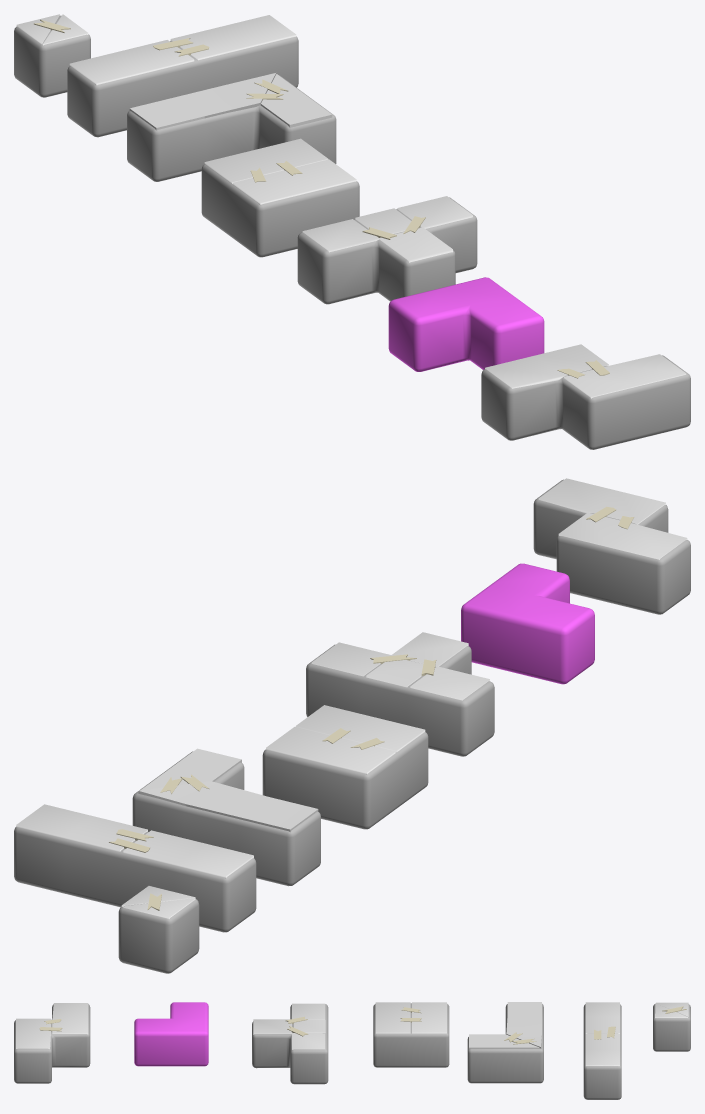
The model's file is tetris_kutular_old.fbx.
The picture shows the model from 3 angles, top to bottom: view 1: azimuth 30°, elevation 25°; view 2: azimuth 150°, elevation 25°; view 3: azimuth 270°, elevation 25°; orthographic projection. The views are drawn at different scales.
Visible parts, largest first — view 1: Cube.047, Cube.042, Cube.045, Cube.043, Cube.044, Cube.046, Cube.048; view 2: Cube.042, Cube.047, Cube.045, Cube.044, Cube.043, Cube.046, Cube.048; view 3: Cube.043, Cube.044, Cube.045, Cube.047, Cube.046, Cube.042, Cube.048.
Boxes of the visible parts, x1,y1,x2,y2 form: Cube.047: (481, 344, 690, 449); Cube.042: (67, 15, 298, 137); Cube.045: (297, 196, 477, 304); Cube.043: (127, 73, 336, 181); Cube.044: (201, 138, 359, 257); Cube.046: (388, 277, 544, 371); Cube.048: (14, 14, 90, 97); Cube.042: (14, 804, 256, 932); Cube.047: (533, 478, 690, 614); Cube.045: (306, 632, 494, 756); Cube.044: (262, 705, 428, 829); Cube.043: (132, 748, 320, 886); Cube.046: (461, 563, 594, 684); Cube.048: (118, 886, 199, 973); Cube.043: (467, 1002, 543, 1083); Cube.044: (373, 1002, 449, 1067); Cube.045: (252, 1003, 328, 1084); Cube.047: (14, 1003, 90, 1083); Cube.046: (134, 1002, 208, 1066); Cube.042: (583, 1002, 621, 1099); Cube.048: (653, 1002, 690, 1051).
Bounding box in the file's own units: 201 × 51.97 × 888.
